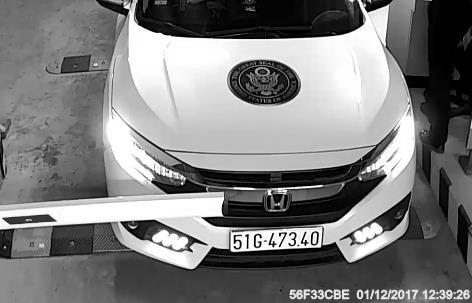License-plate: (227, 225, 333, 259)
